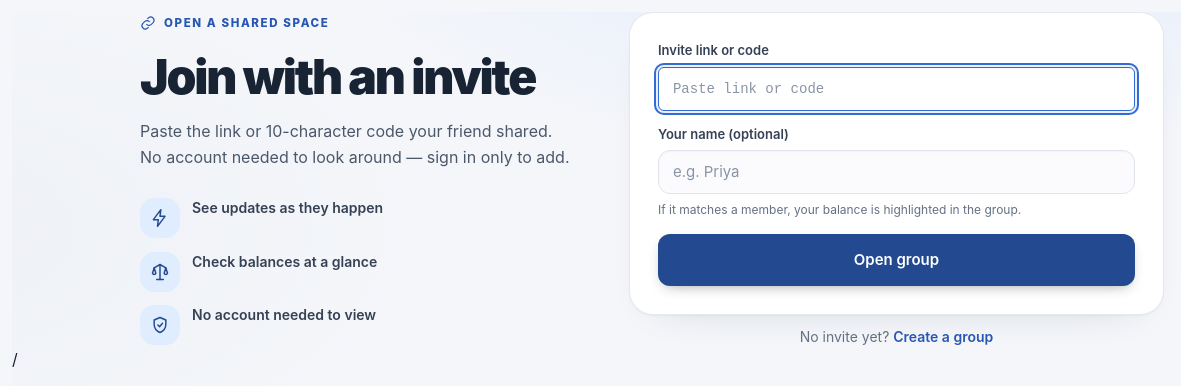
JoinGroup › resolves 10-character codes via the backend
The width and height of the screenshot is (1181, 386).
Type "kx7q-9m2p-ab" into the field labelled "Invite link or code" at point(896, 88), box top-left (658, 66), bottom-right (1135, 110)
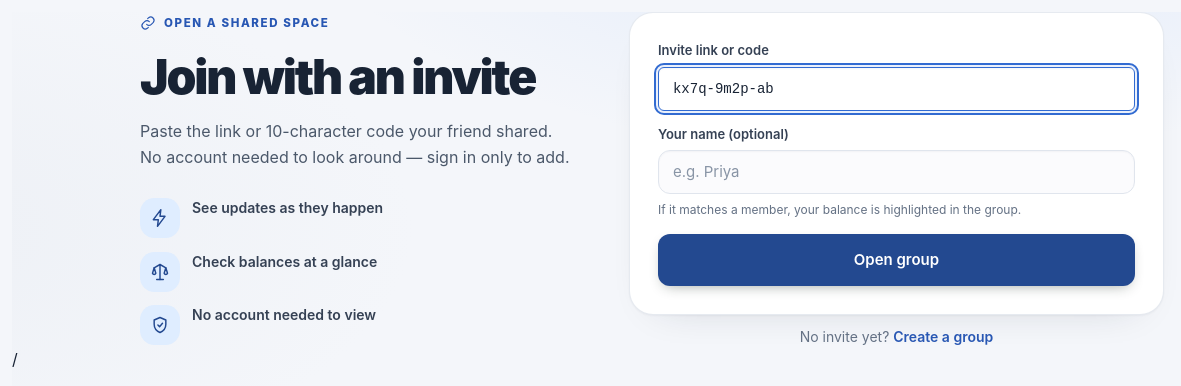
Click the button "Open group" at point(896, 260), box top-left (658, 234), bottom-right (1135, 286)
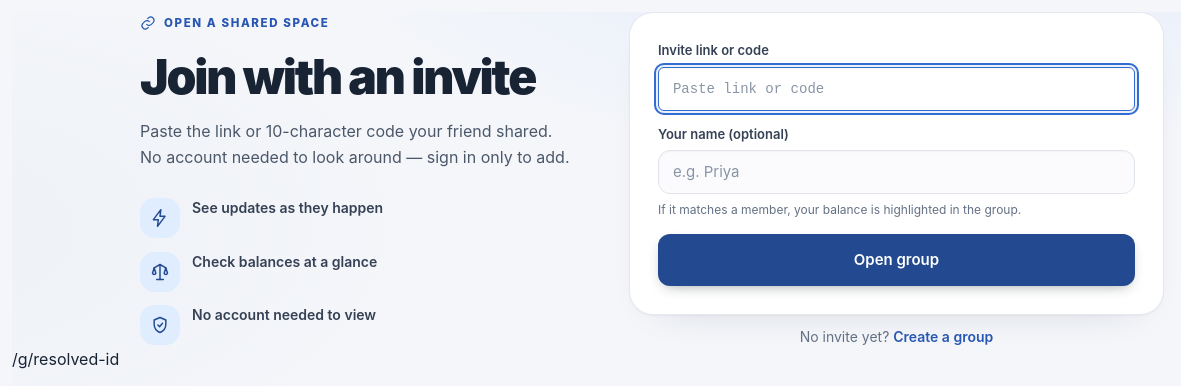
Check: the text with test id "path" reads "/g/resolved-id", box top-left (12, 348), bottom-right (119, 368)
